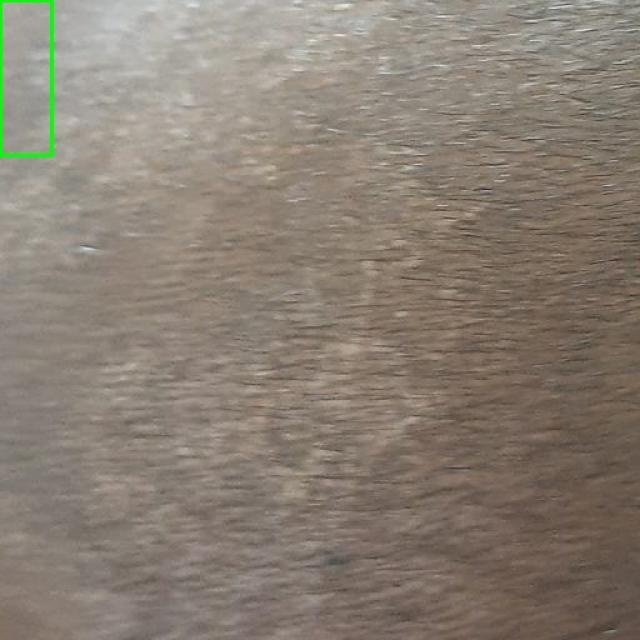Seborrheic Dermatitis: (0, 0, 51, 155)
